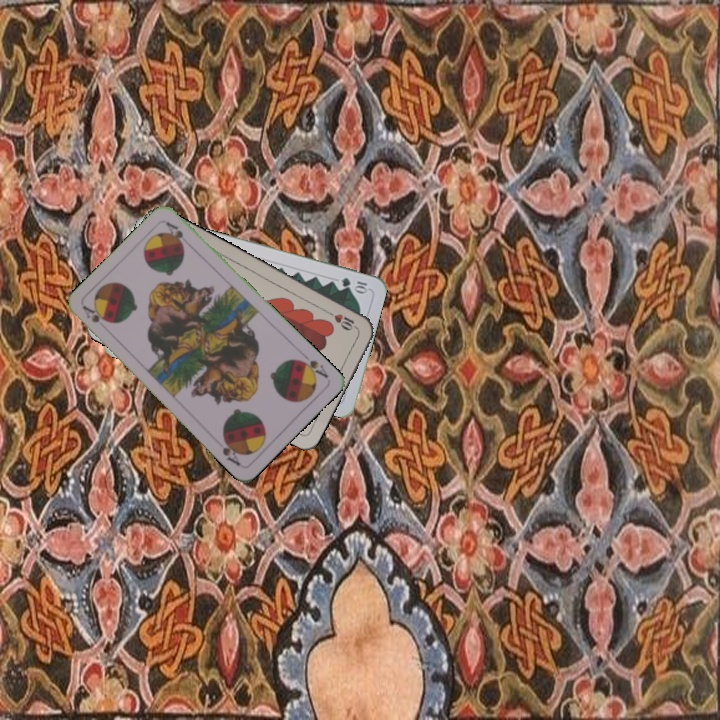G10: (337, 273, 371, 295)
H10: (323, 307, 361, 333)
SA: (293, 349, 331, 381), (79, 302, 110, 325)
